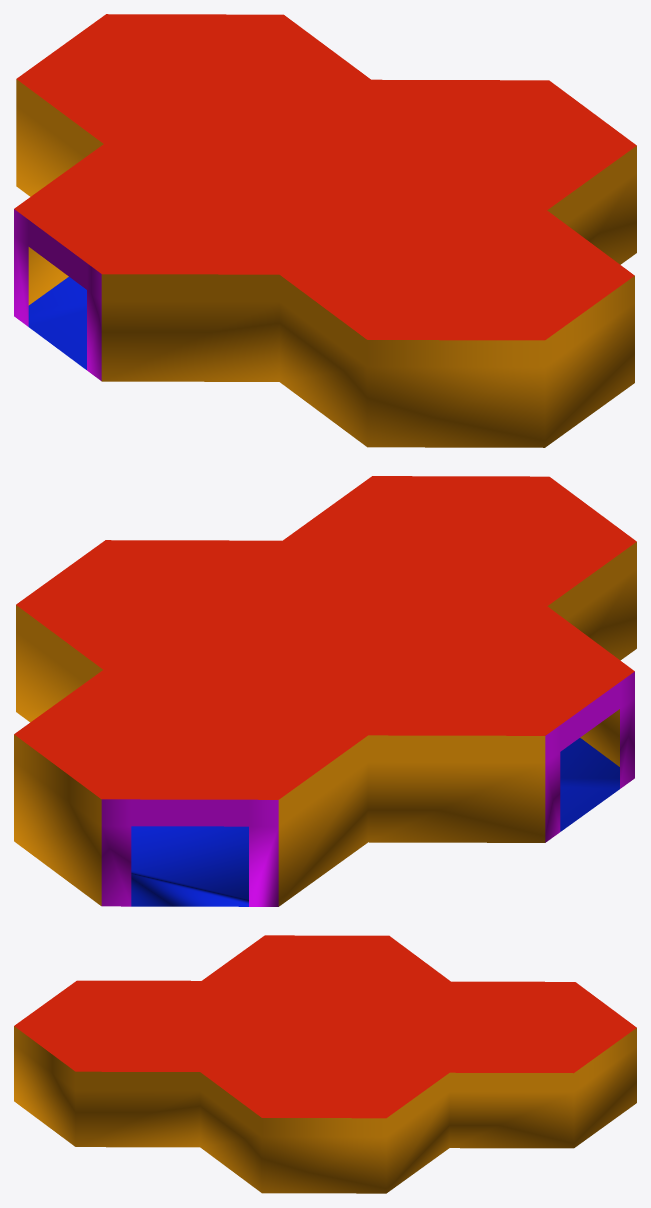
File: JapaneseRoom.fbx
The picture shows the model from 3 angles, top to bottom: view 1: azimuth 30°, elevation 25°; view 2: azimuth 150°, elevation 25°; view 3: azimuth 270°, elevation 25°; orthographic projection. The views are drawn at different scales.
Parts seen in each view (by area): view 1: Museum_complete_Blockout:Japanese_room; view 2: Museum_complete_Blockout:Japanese_room; view 3: Museum_complete_Blockout:Japanese_room.
Boxes of the visible parts, box(x1,y1,x2,y2) form: Museum_complete_Blockout:Japanese_room: box(14, 14, 636, 447); Museum_complete_Blockout:Japanese_room: box(14, 476, 636, 906); Museum_complete_Blockout:Japanese_room: box(14, 935, 636, 1193).
Size of the model in its own units: 7143 by 1372 by 10286.
